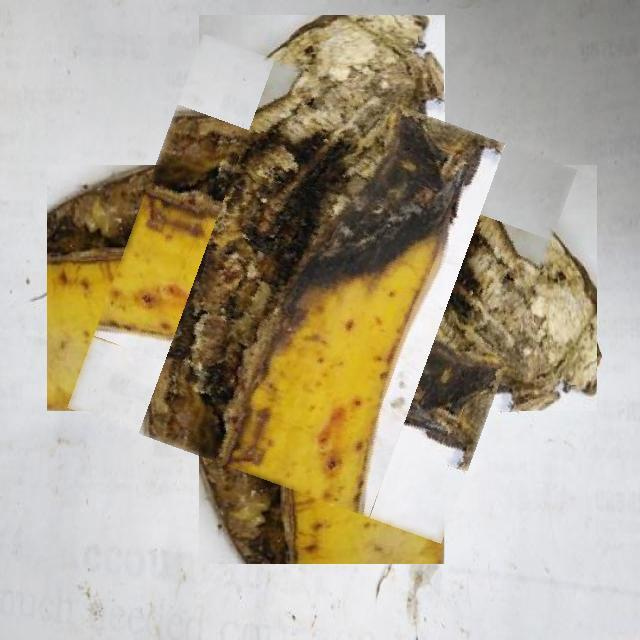Podre: (95, 62, 549, 516)
